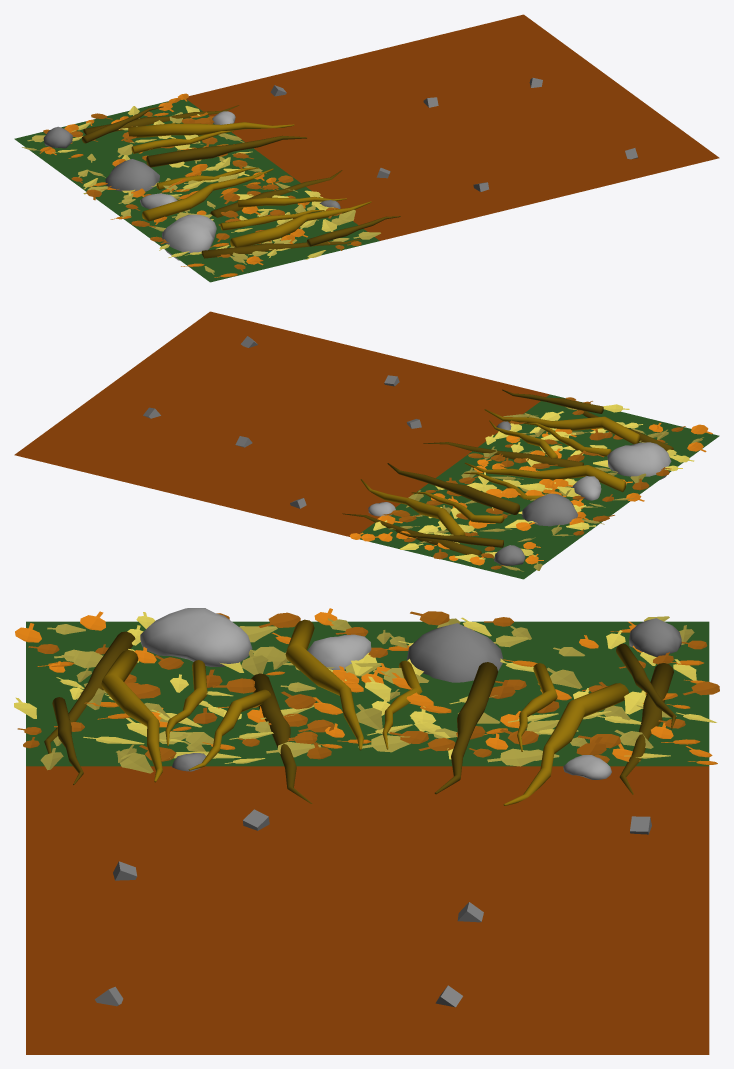
Rendered from sol map sombre3.fbx.
3 views of the same model, one above another, from view 1: azimuth 30°, elevation 25°; view 2: azimuth 150°, elevation 25°; view 3: azimuth 270°, elevation 25° (orthographic). The views are drawn at different scales.
Visible parts, largest first — view 1: sol sombre gauche3; view 2: sol sombre gauche3; view 3: sol sombre gauche3.
Part boxes in pixels (x1,y1,x2,y2): sol sombre gauche3: (14, 14, 719, 282); sol sombre gauche3: (14, 311, 719, 579); sol sombre gauche3: (14, 608, 719, 1054).
Size of the model in its own units: 307 by 19.88 by 207.
